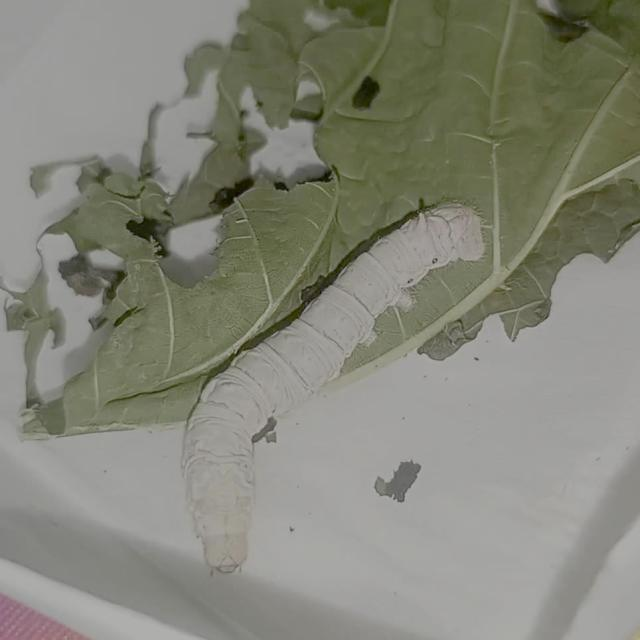Healthy: (167, 193, 494, 576)
